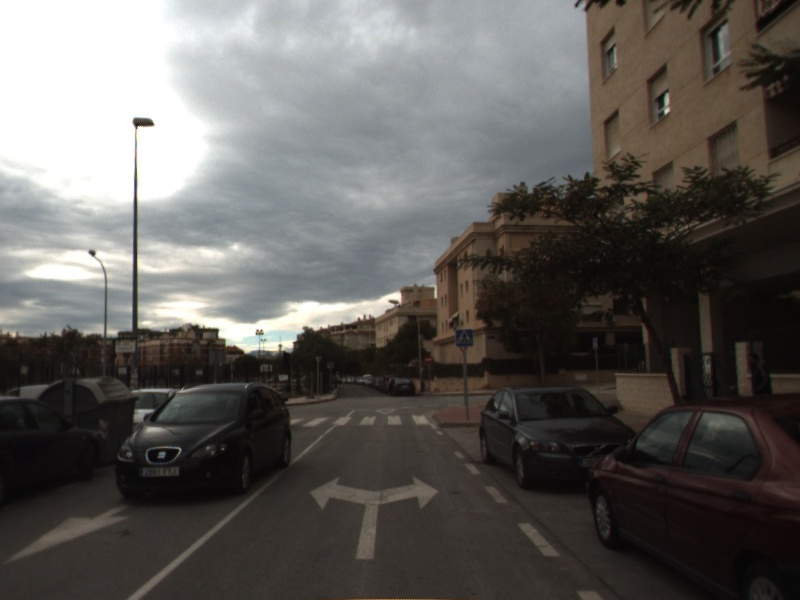LEFT_RIGHT: (307, 472, 442, 563)
